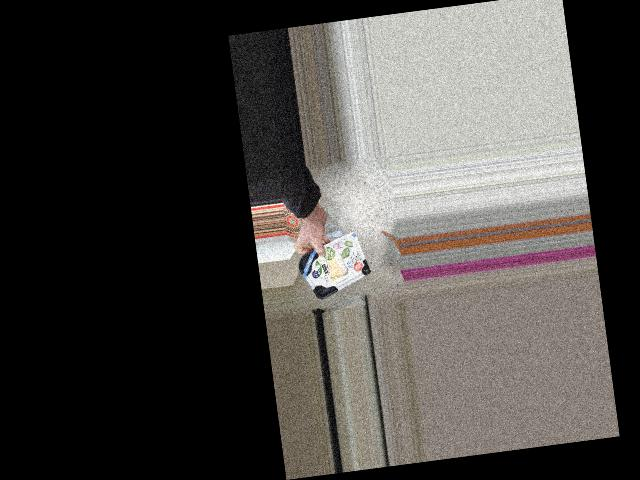cheese: (298, 236, 371, 292)
